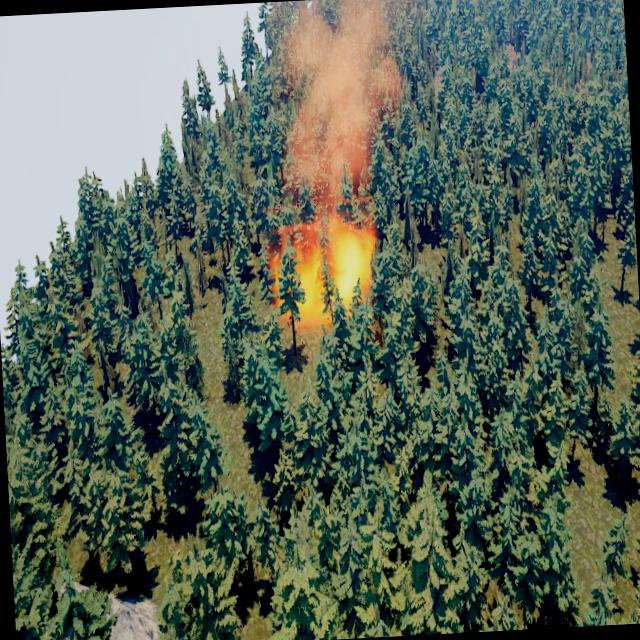fire: (270, 213, 382, 330)
smoke: (269, 0, 428, 213)
